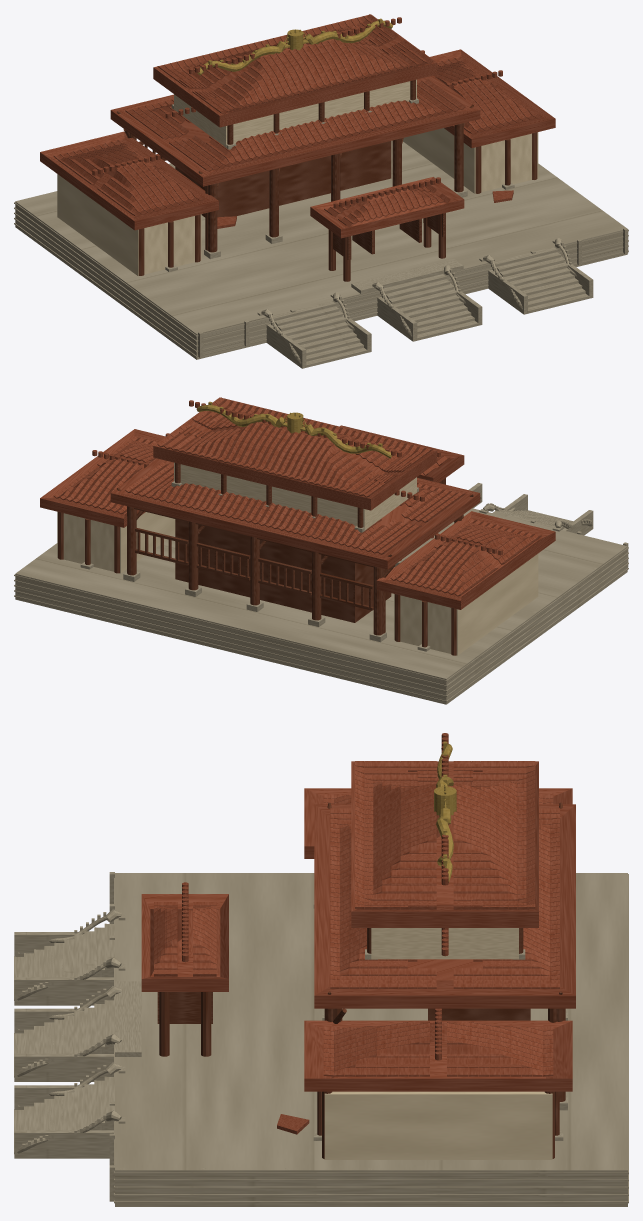
The picture shows the model from 3 angles, top to bottom: view 1: azimuth 30°, elevation 25°; view 2: azimuth 150°, elevation 25°; view 3: azimuth 270°, elevation 25°; orthographic projection. The views are drawn at different scales.
Visible parts, largest first — view 1: garrison_part_0000, garrison_part_0004, garrison_part_0001, garrison_part_0003, garrison_part_0006, garrison_part_0002, garrison_part_0005; view 2: garrison_part_0004, garrison_part_0000, garrison_part_0001, garrison_part_0003, garrison_part_0005, garrison_part_0006; view 3: garrison_part_0000, garrison_part_0004, garrison_part_0003, garrison_part_0001, garrison_part_0002, garrison_part_0005, garrison_part_0006.
Part boxes in pixels (x1,y1,x2,y2): garrison_part_0000: (14,140,628,368); garrison_part_0004: (40,14,555,238); garrison_part_0001: (123,69,467,258); garrison_part_0003: (57,125,538,275); garrison_part_0006: (138,132,537,281); garrison_part_0002: (217,190,584,367); garrison_part_0005: (116,18,587,363); garrison_part_0004: (40,397,555,609); garrison_part_0000: (14,483,628,704); garrison_part_0001: (123,452,463,642); garrison_part_0003: (57,508,538,655); garrison_part_0005: (117,401,592,556); garrison_part_0006: (58,478,456,655); garrison_part_0000: (14,872,628,1206); garrison_part_0004: (141,733,575,1091); garrison_part_0003: (324,1008,565,1159); garrison_part_0001: (322,783,567,1110); garrison_part_0002: (16,924,309,1134); garrison_part_0005: (16,741,562,1153); garrison_part_0006: (157,899,563,1158).
Bounding box in the file's own units: 1129 × 479 × 982.
1 material, 1 textured.
